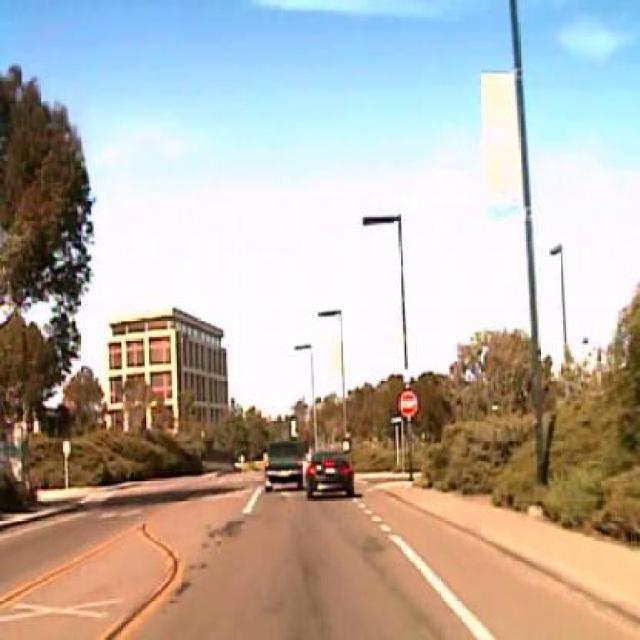stop: (397, 388, 418, 417)
